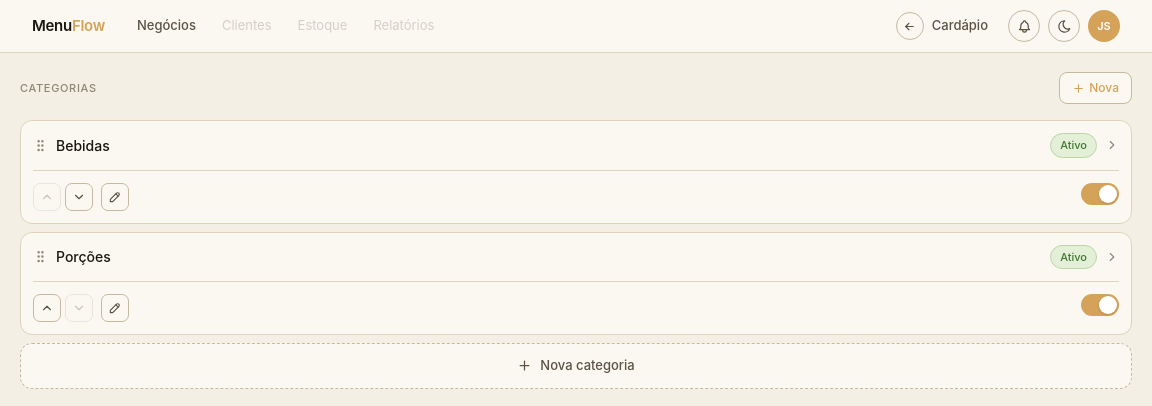
Test: MenuCategories — editar › exibe input com nome atual ao clicar em editar
Click the button with test id "btn-edit-c1" at (115, 196), box [101,182,129,210]
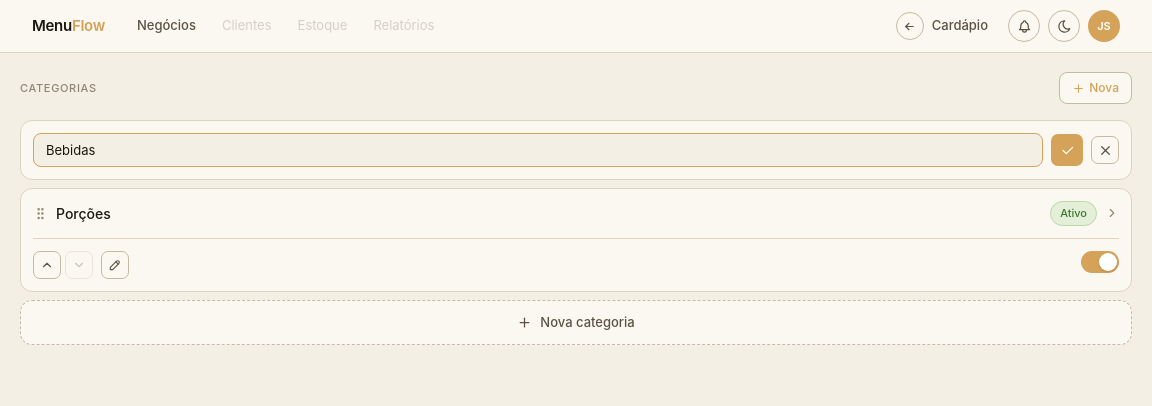
Expected: the field with test id "edit-input-c1" holds "Bebidas", [33,133,1043,167]
